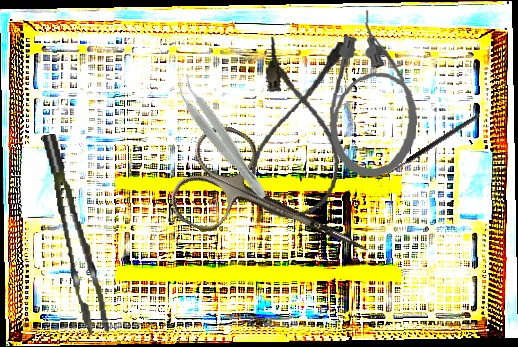Cannula: (246, 32, 354, 225), (325, 7, 425, 182)
Hook Surgical: (375, 112, 484, 189)
Iris Scissors: (163, 116, 391, 301)
Tissue Forceps: (42, 130, 110, 338), (169, 72, 276, 204)
